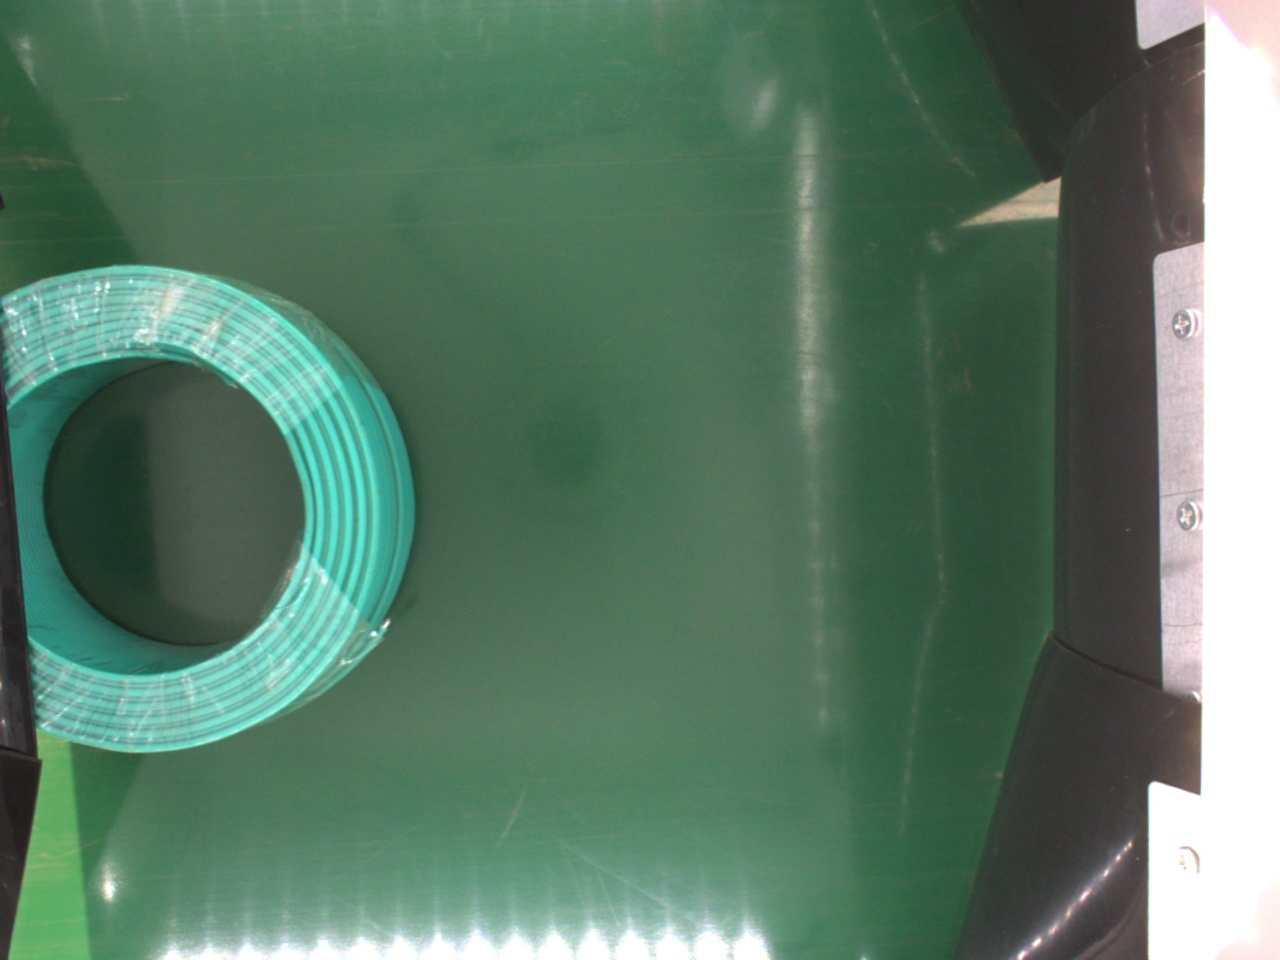green: (0, 250, 412, 762)
